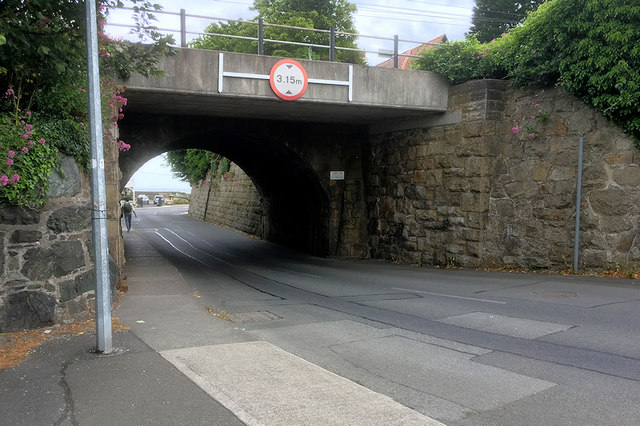bridge: (90, 5, 448, 187)
